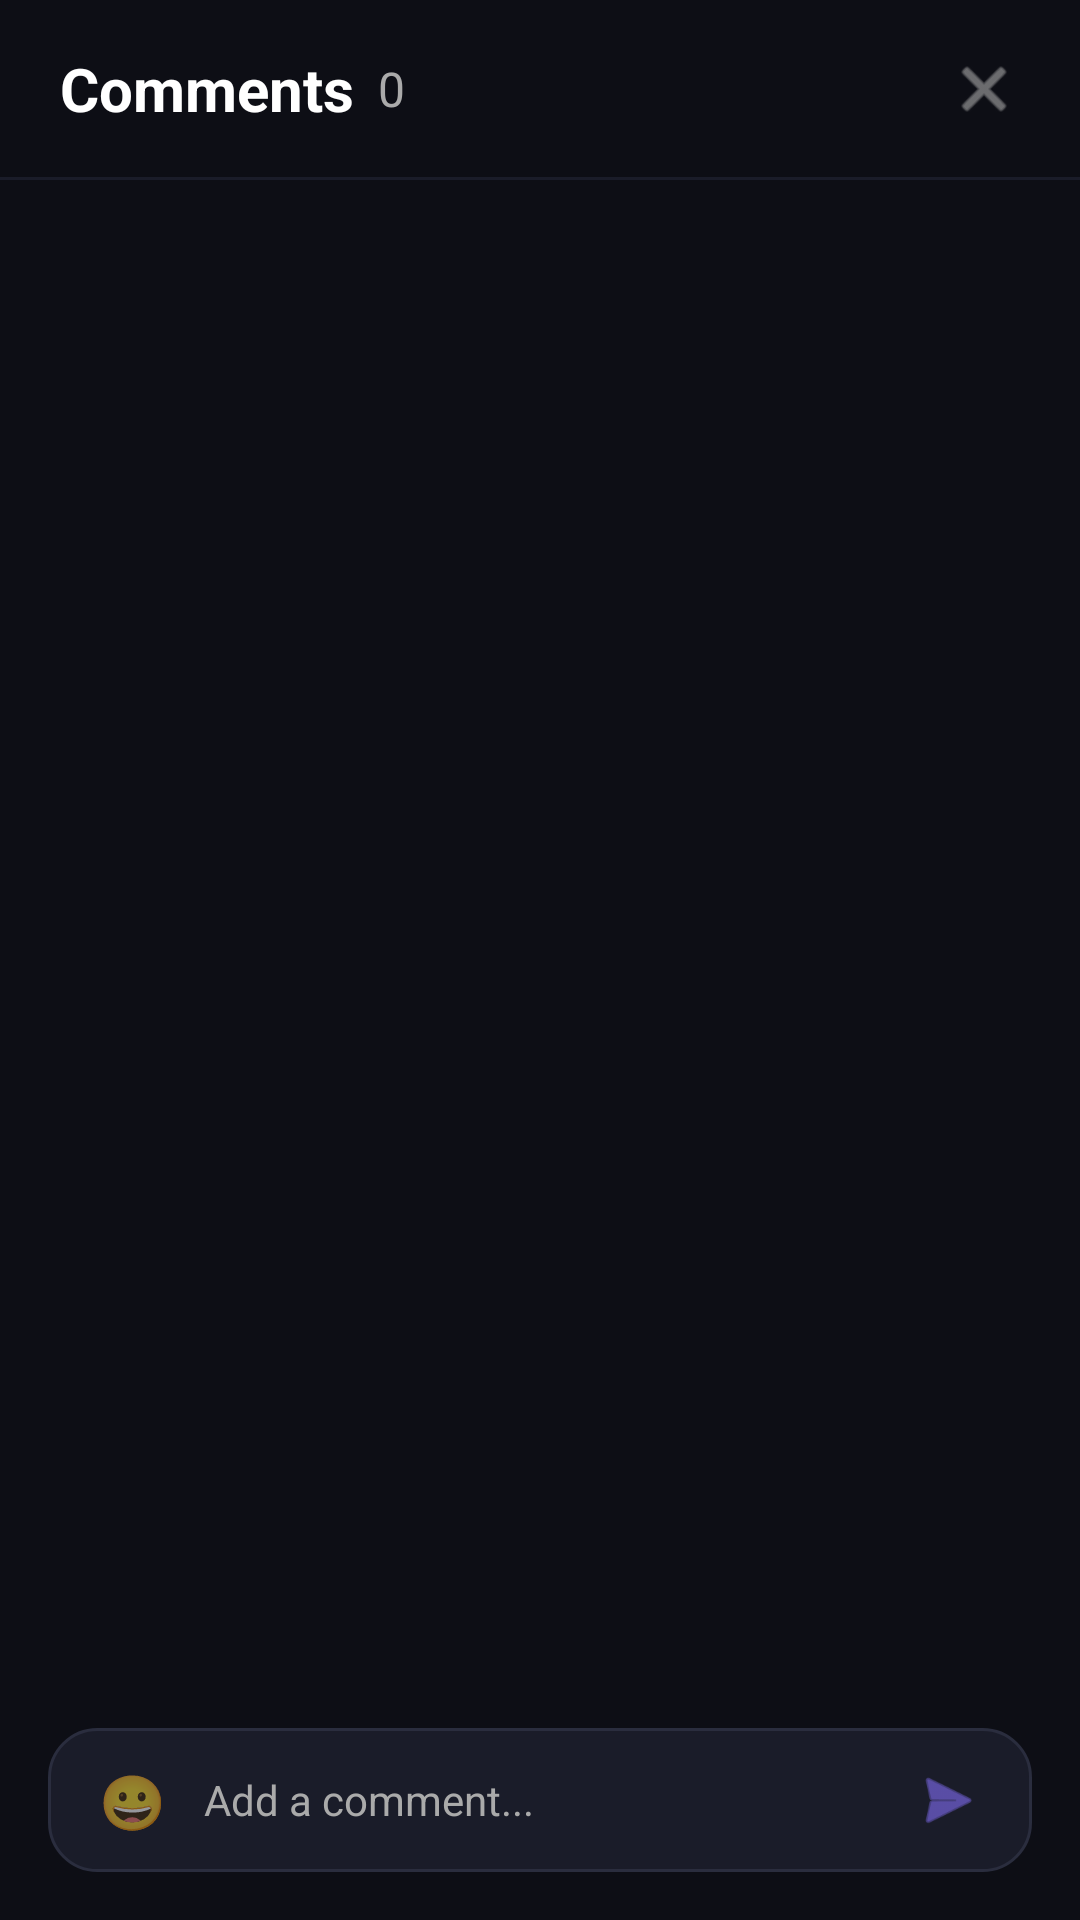

Icon bounding boxes for this 1080px x 1920px phone screenshot, format bbox=[x1, y1, x2, y2]:
close clear cancel: bbox=[962, 67, 1006, 111]
send: bbox=[926, 1778, 972, 1823]
